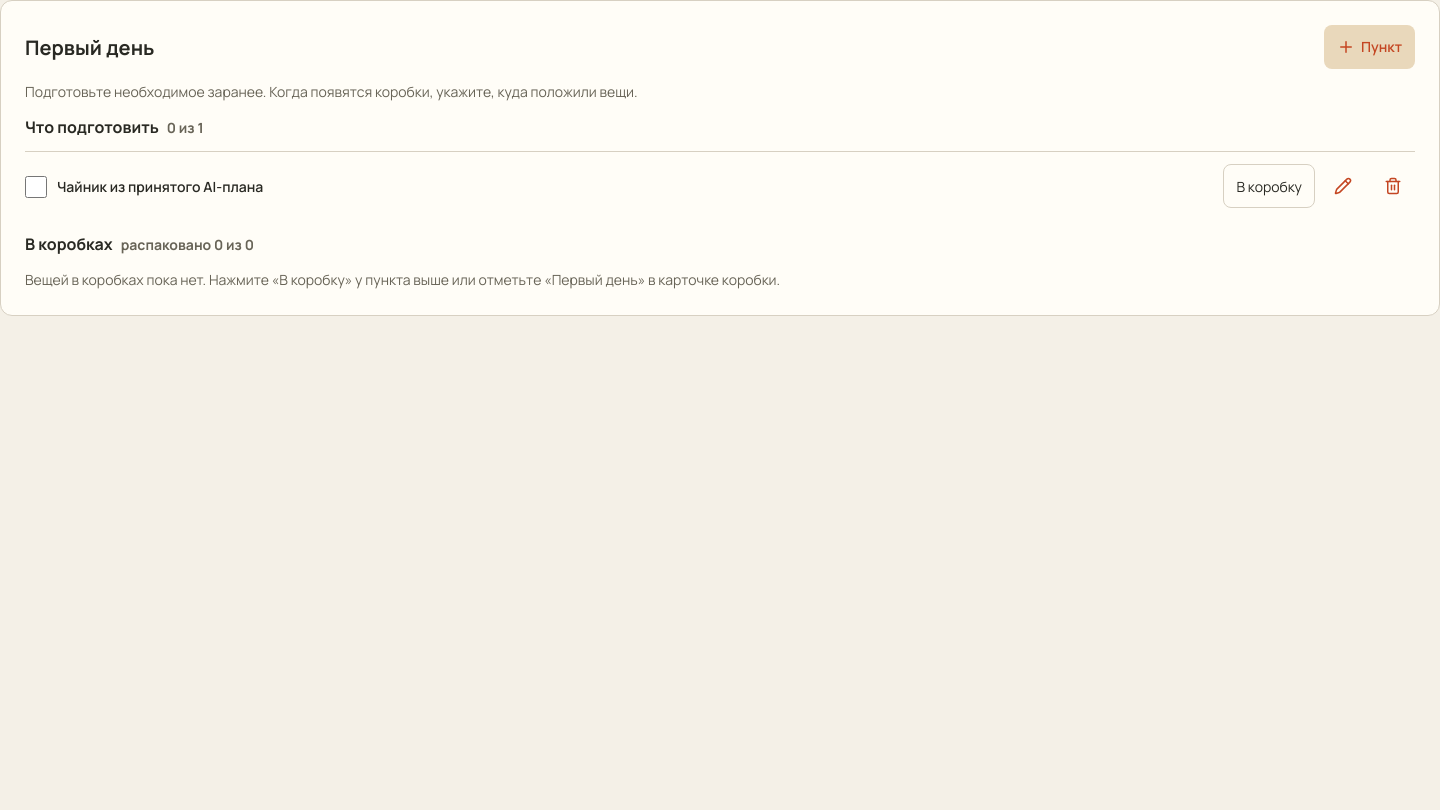
Test case: единый список первого дня › видит коробку с последней страницы и не дублирует вещь при повторе частично сохранённой привязки
The width and height of the screenshot is (1440, 810).
Click the button with aria-label "Указать коробку: Чайник из принятого AI-плана": (1269, 186) [1224,164,1315,208]
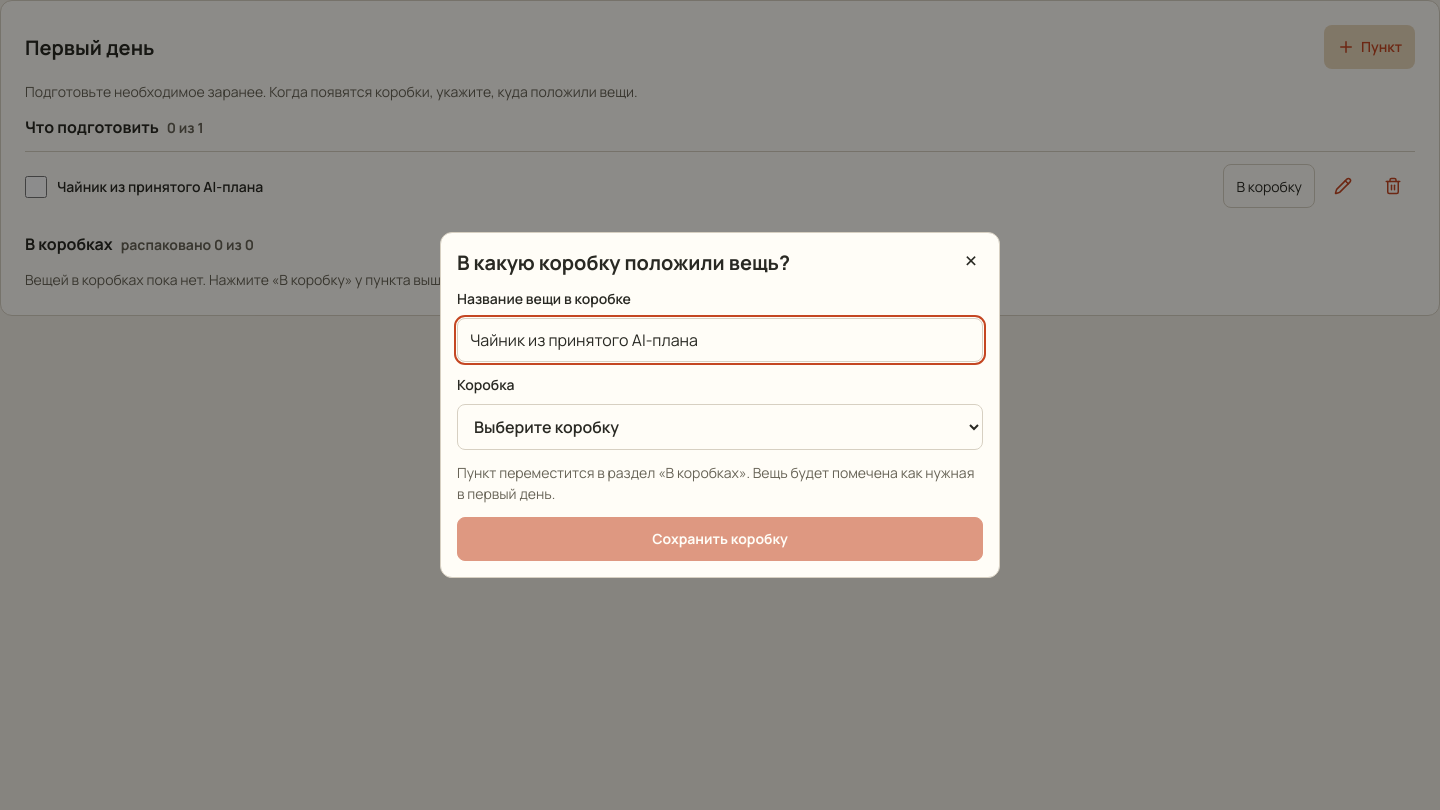
Select "№ 300 · Кухня" in the dropdown labelled "Коробка": (720, 427) [457,404,983,450]
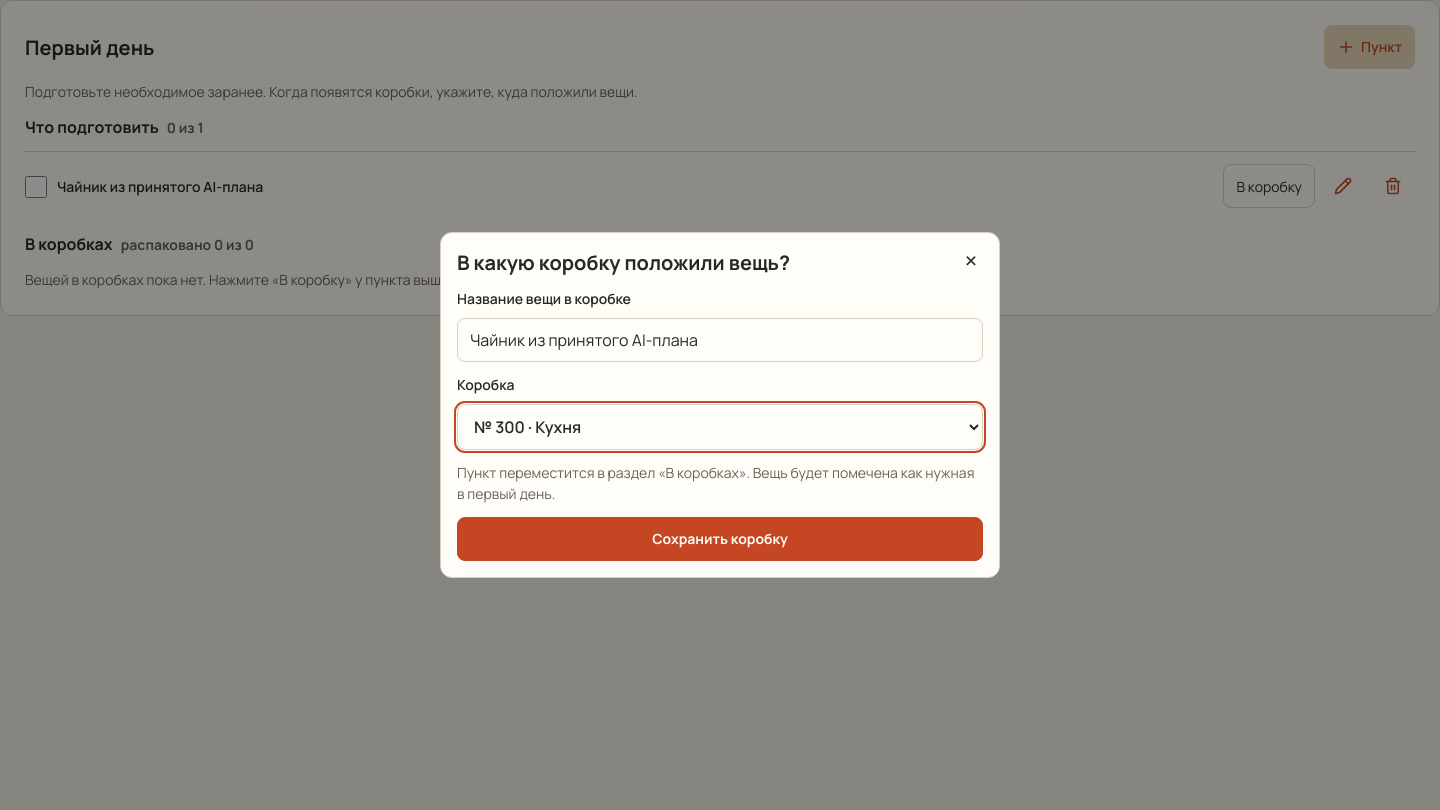
Click the button "Сохранить коробку": (720, 539) [457,517,983,561]
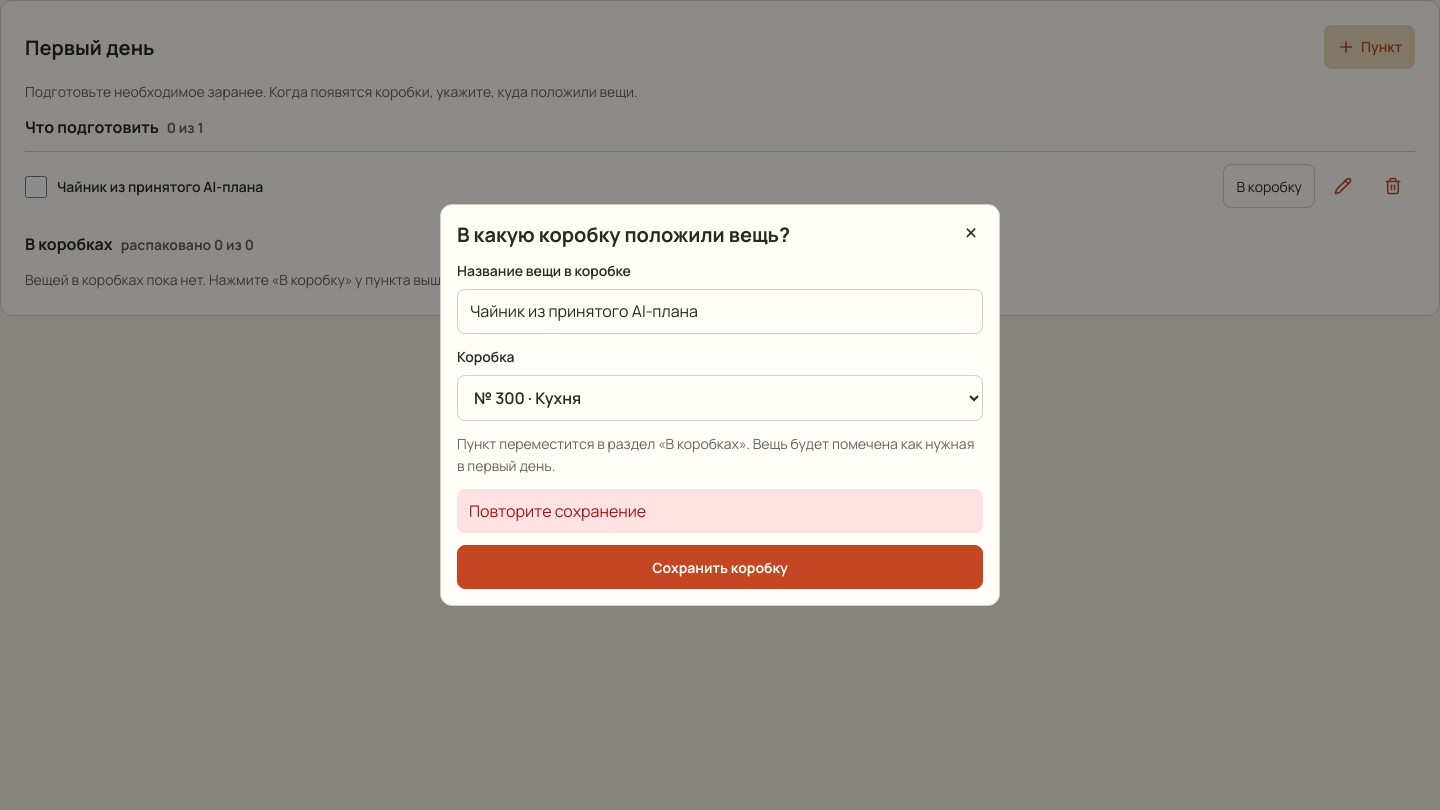
Result: the message "Повторите сохранение" is shown at [457,489,983,534]
Click the button "Сохранить коробку": (720, 568) [457,546,983,590]
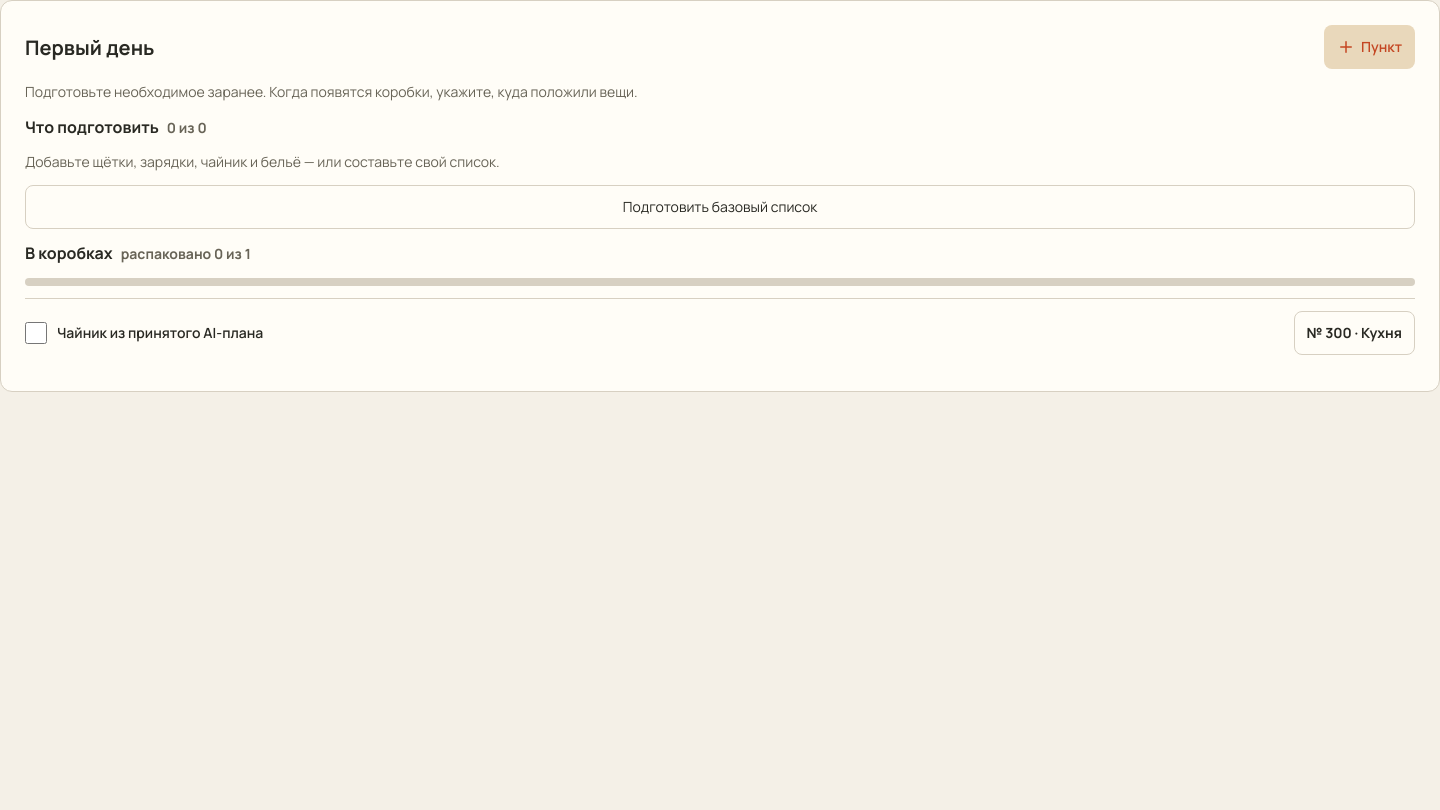
Result: the dialog is gone
Result: the link "№ 300 · Кухня" is shown at [1294,311,1415,355]
